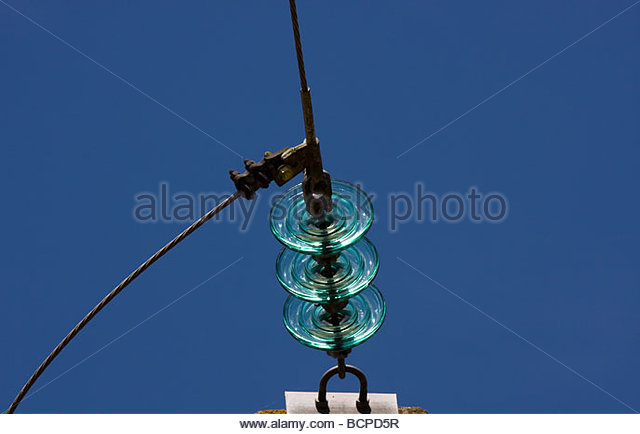isolator: (269, 178, 387, 351)
